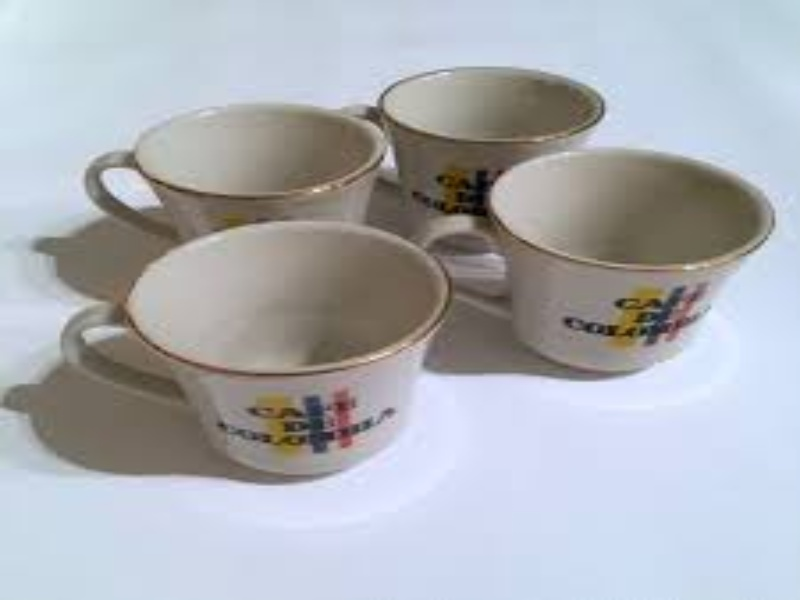cup: (118, 216, 450, 478), (482, 154, 773, 381), (99, 84, 388, 280), (375, 51, 607, 245)
